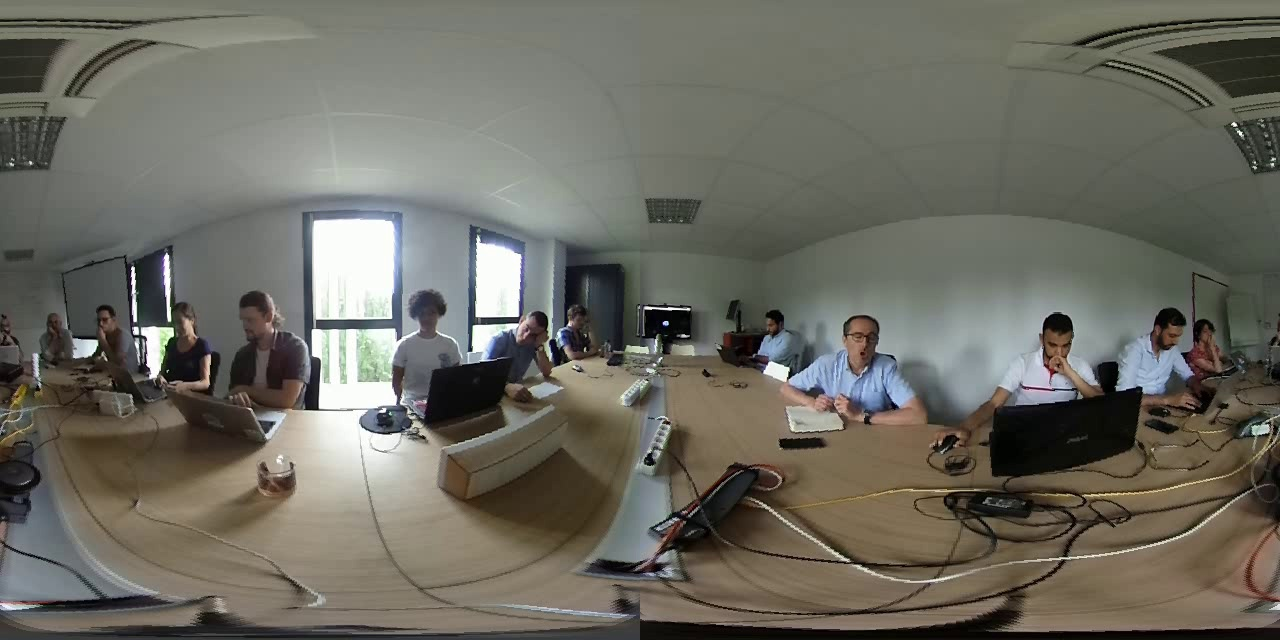person: (802, 307, 912, 414), (992, 305, 1100, 407), (231, 283, 322, 400), (1113, 297, 1188, 397), (386, 282, 464, 377), (147, 294, 219, 394), (487, 300, 551, 368), (89, 298, 141, 370), (750, 303, 803, 371), (552, 292, 601, 358), (1192, 305, 1233, 373), (36, 308, 80, 360), (1, 303, 25, 348)
